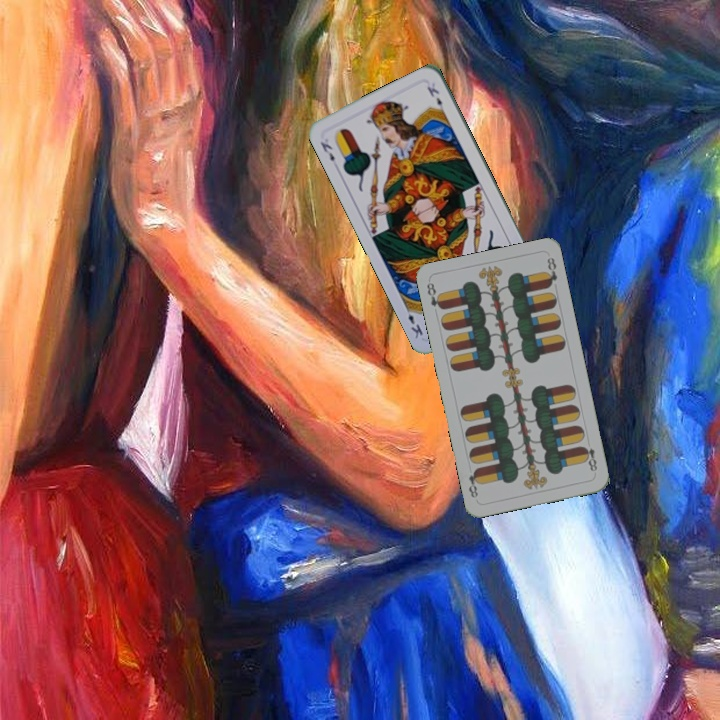E8: (423, 279, 445, 312), (579, 442, 600, 474)
EK: (316, 137, 339, 171)
